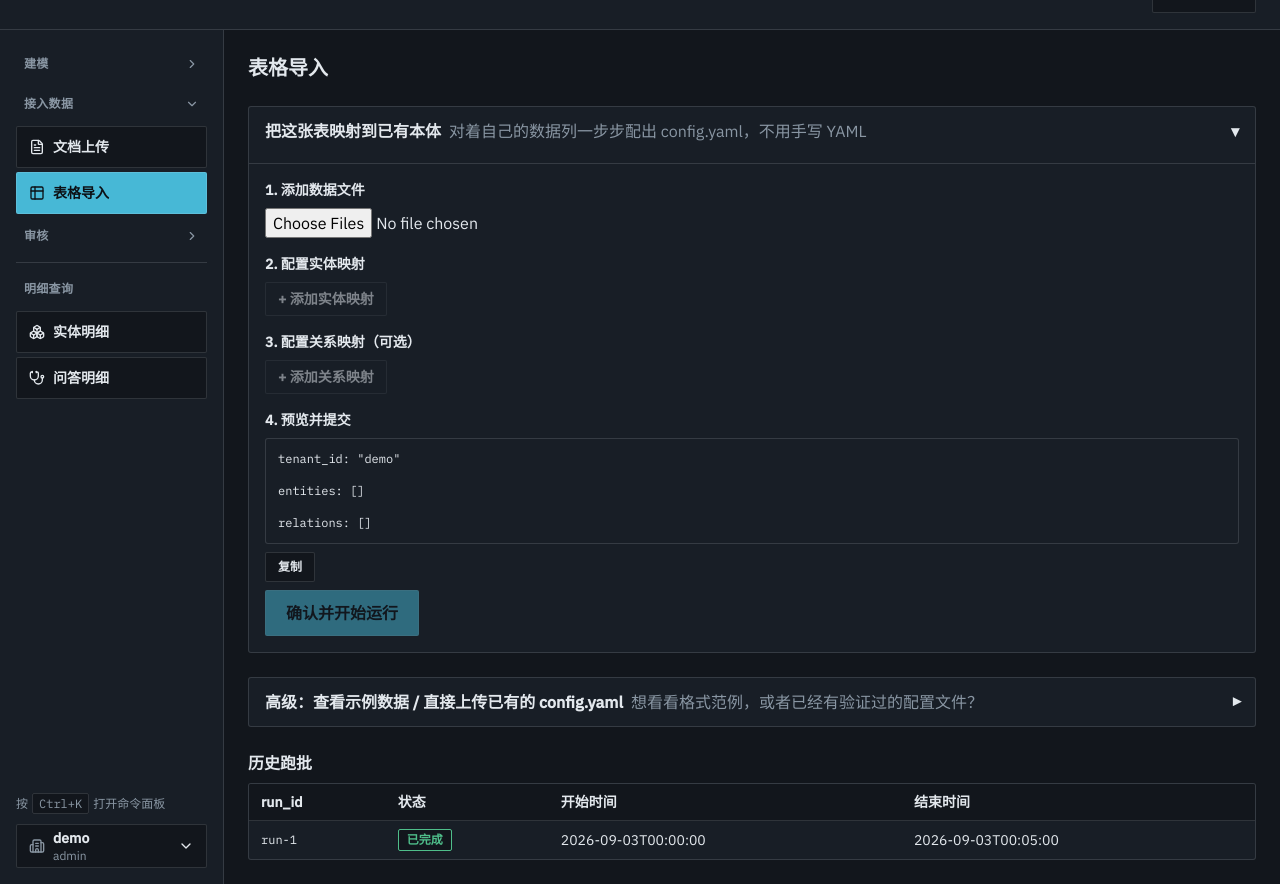
前向出口 › 预演跑完不给"去看结果"——什么都还没写进去
The image size is (1280, 884).
(page scrolled)
Click the text "run-1": {"x": 279, "y": 840} x1=249 y1=820 x2=386 y2=859
(page scrolled)
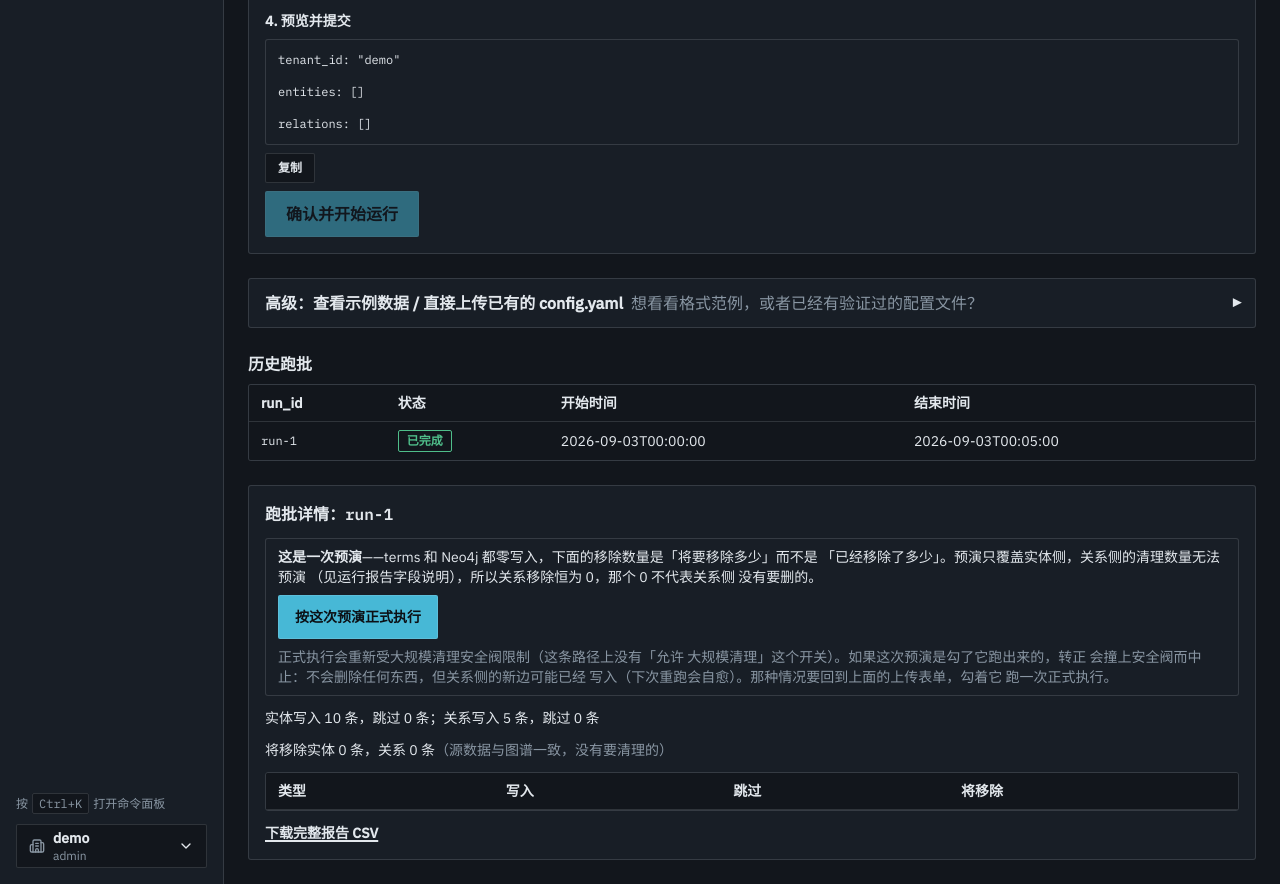
Expected: the link "实体明细" is not shown
Now the text "这是一次预演" is shown, box x1=278 y1=548 x2=362 y2=566
